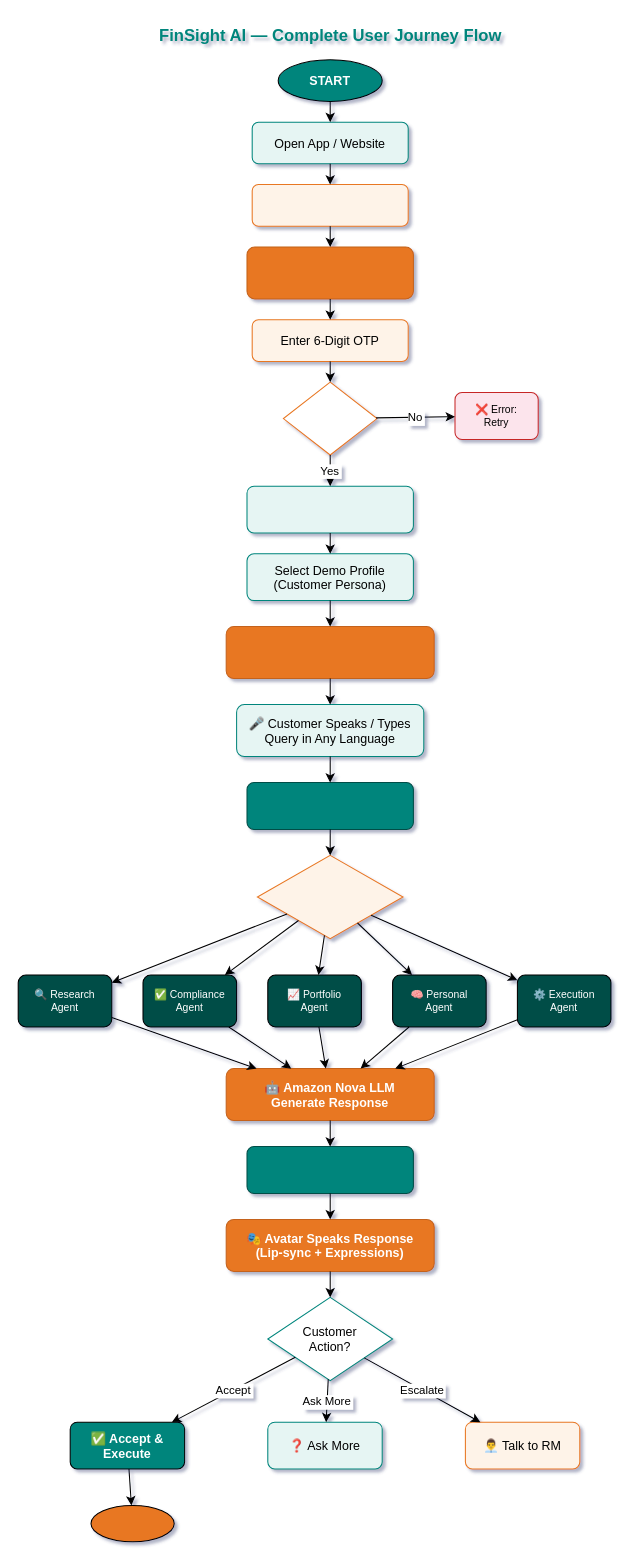
Image size: 635x1566. Some labels were removed from this diagram. The shapes that lost their labels are listed below. From the top down, each one's centre as x and y in pixels, then its label:
At pixel 329 205: "Enter Email Address".
At pixel 329 272: "📧 AWS SES Sends OTP to Email".
At pixel 329 418: "Valid?".
At pixel 329 509: "Select Language (12+ Indian Languages)".
At pixel 329 652: "🎭 Avatar Greets Customer by Name in Chosen Language".
At pixel 329 805: "👂 Speech-to-Text (Amazon Transcribe)".
At pixel 329 896: "🎯 Intent Detection + Context Engine".
At pixel 329 1169: "🗣️ Text-to-Speech (Amazon Polly Neural)".
At pixel 132 1523: "END".
